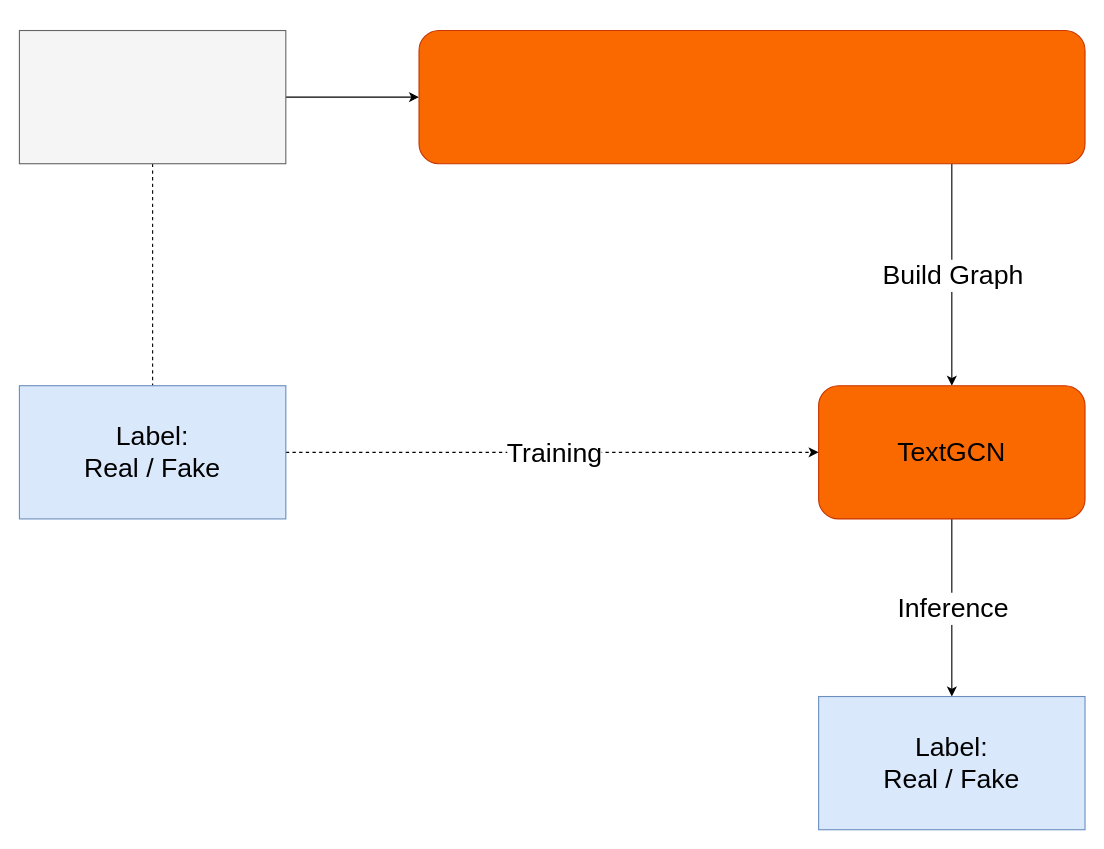
This 1104x849 diagram has some shape labels left out. Here are the shapes that lost their labels. From the top down, the box of each, then its label:
(18, 29, 286, 164): News Title News Content
(418, 29, 1085, 164): Word2Vec: TF/IDF
